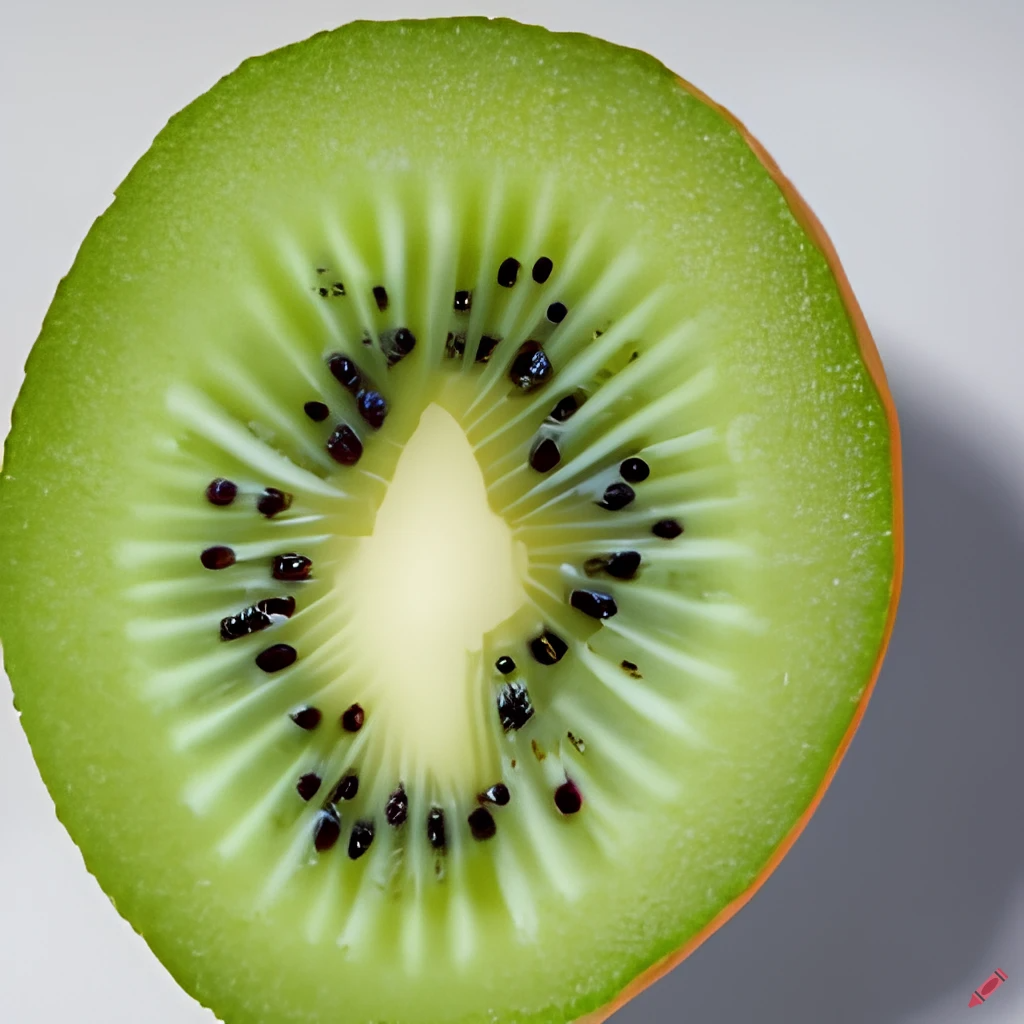Kiwi: (0, 0, 932, 1024)
